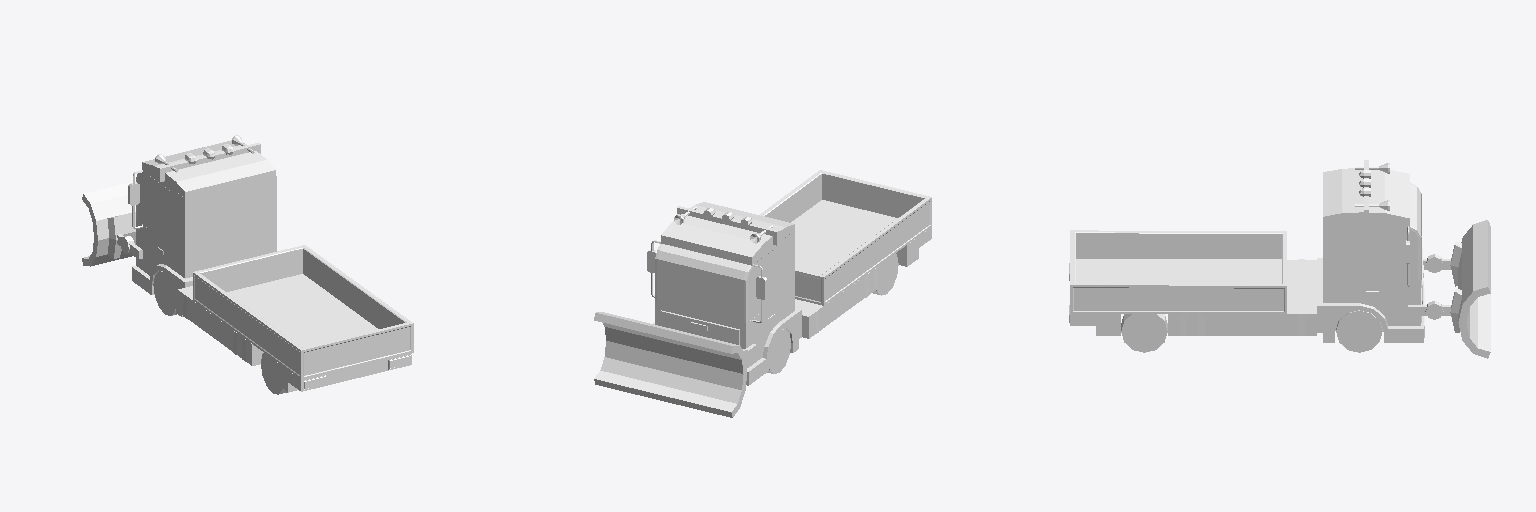
File: Winterdienst.obj
3 renders of one model, left to right at view 1: azimuth 30°, elevation 25°; view 2: azimuth 150°, elevation 25°; view 3: azimuth 270°, elevation 25°, orthographic.
Parts seen in each view (by area): view 1: bulldozer_Mesh; view 2: bulldozer_Mesh; view 3: bulldozer_Mesh.
Boxes of the visible parts, x1=… form: bulldozer_Mesh: x1=82, y1=135, x2=413, y2=394; bulldozer_Mesh: x1=594, y1=170, x2=931, y2=417; bulldozer_Mesh: x1=1069, y1=160, x2=1490, y2=358.
Size of the model in its own units: 1.06 by 1.11 by 2.81.